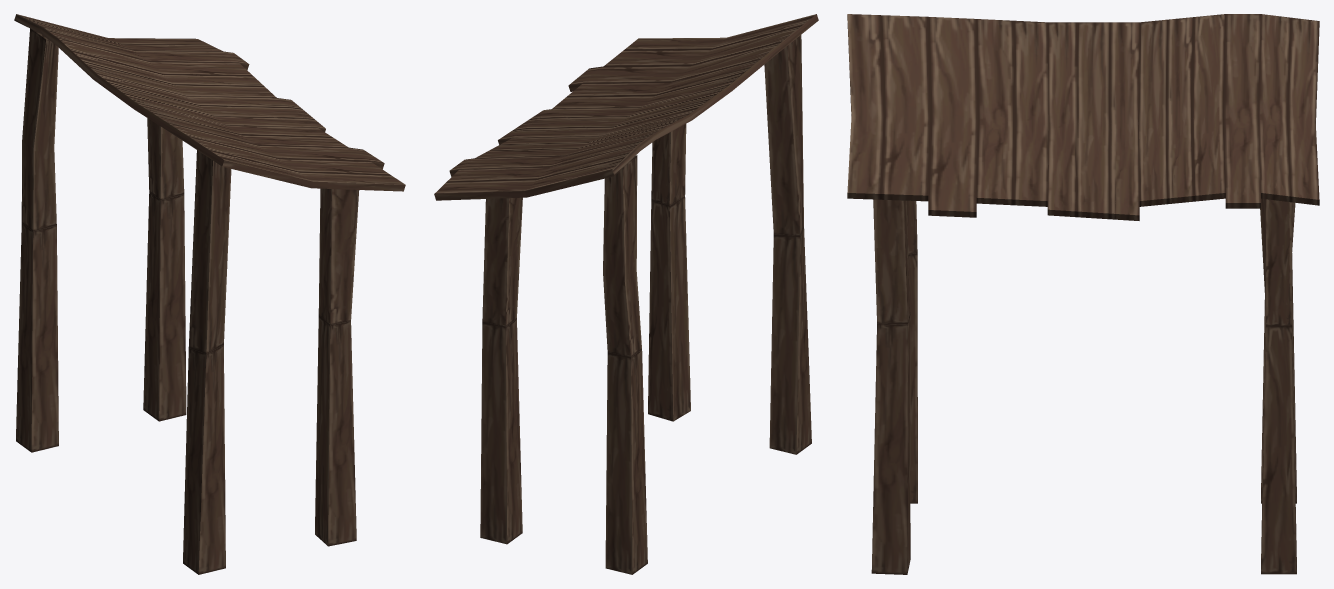
The model's file is wooden_shed_01.fbx.
The picture shows the model from 3 angles, left to right: view 1: azimuth 30°, elevation 25°; view 2: azimuth 150°, elevation 25°; view 3: azimuth 270°, elevation 25°; orthographic projection. The views are drawn at different scales.
Parts seen in each view (by area): view 1: wooden_shed_01; view 2: wooden_shed_01; view 3: wooden_shed_01.
Part boxes in pixels (bbox=[...]): wooden_shed_01: bbox=[14, 14, 405, 574]; wooden_shed_01: bbox=[434, 14, 818, 574]; wooden_shed_01: bbox=[847, 14, 1319, 574].
Size of the model in its own units: 208 by 408 by 363.
